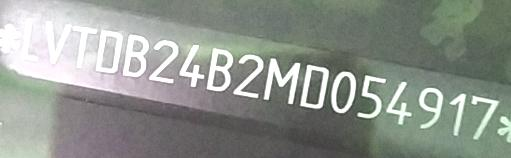letter: (264, 56, 301, 106), (469, 94, 499, 143), (300, 63, 331, 109), (148, 38, 179, 84), (44, 19, 72, 68), (95, 27, 122, 76), (385, 79, 413, 126), (206, 46, 234, 92), (233, 53, 262, 97), (357, 74, 386, 118), (416, 85, 444, 130), (71, 23, 96, 72), (122, 33, 149, 78), (179, 43, 205, 89), (330, 71, 356, 115), (19, 16, 40, 61), (448, 91, 467, 138)
